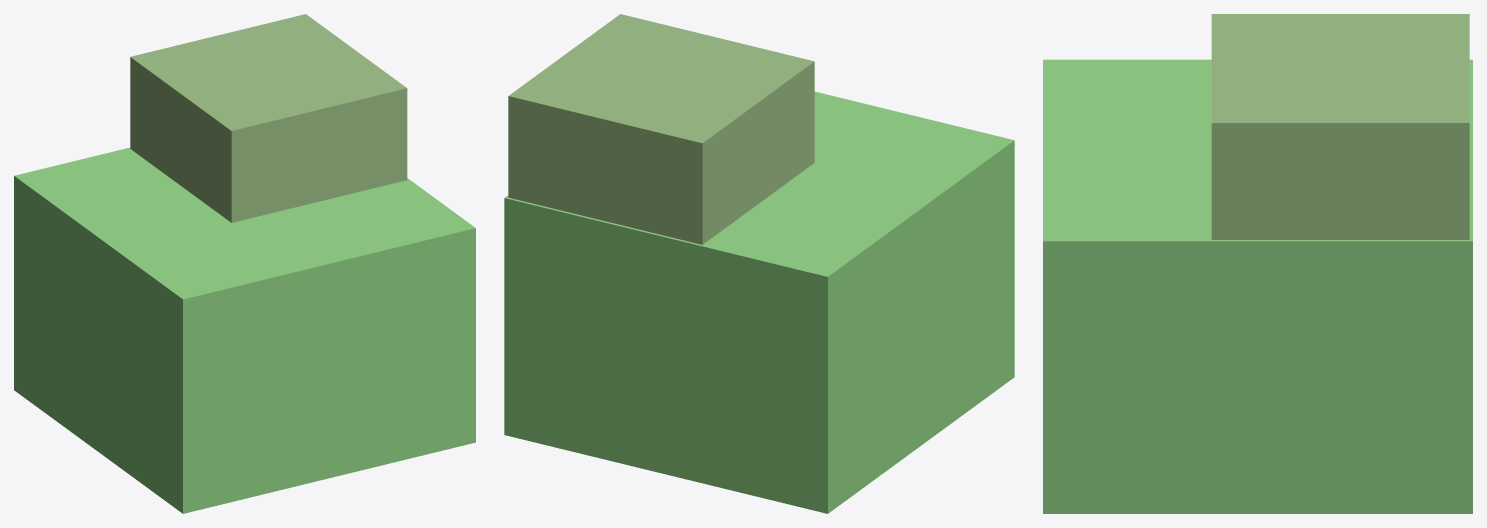
Rendered from Prop_Dress_AMF_Bush_V29.glb.
3 renders of one model, left to right at view 1: azimuth 30°, elevation 25°; view 2: azimuth 150°, elevation 25°; view 3: azimuth 270°, elevation 25°, orthographic. The views are drawn at different scales.
Parts seen in each view (by area): view 1: Prop_Dress_AMF_Bush_V29; view 2: Prop_Dress_AMF_Bush_V29; view 3: Prop_Dress_AMF_Bush_V29.
Part boxes in pixels (x1,y1,x2,y2): Prop_Dress_AMF_Bush_V29: [14, 14, 475, 513]; Prop_Dress_AMF_Bush_V29: [504, 14, 1014, 513]; Prop_Dress_AMF_Bush_V29: [1043, 14, 1472, 513].
Bounding box in the file's own units: 0.5207 × 0.5207 × 0.5207.
